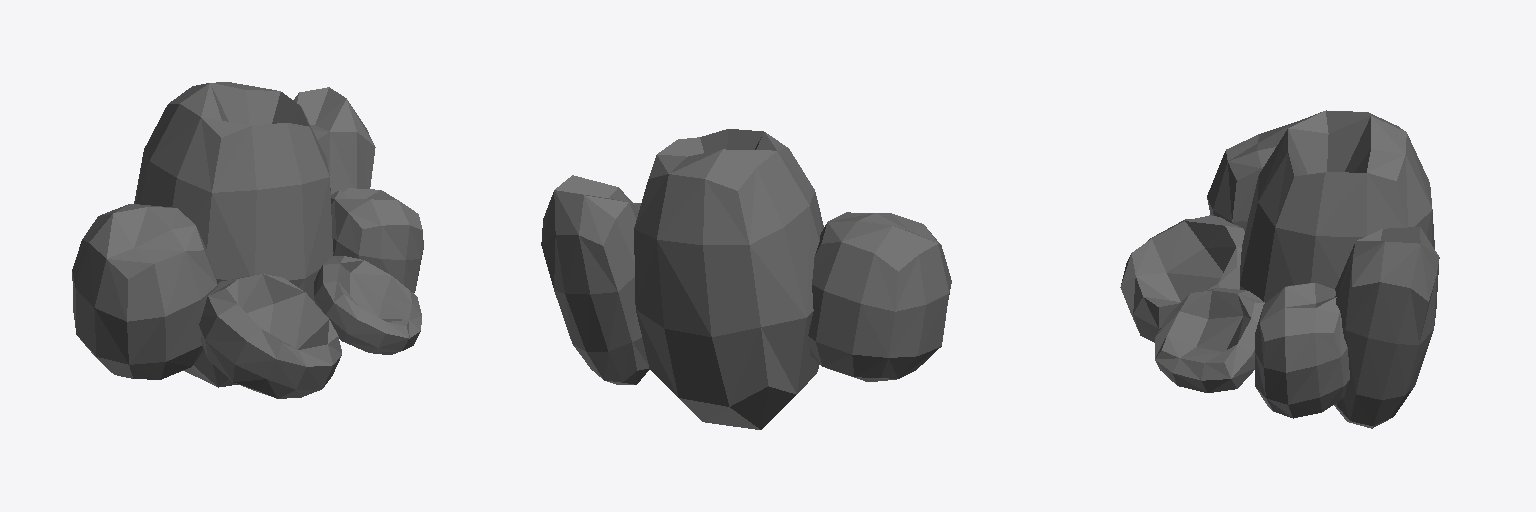
File: TidePlant2.obj
3 renders of one model, left to right at view 1: azimuth 30°, elevation 25°; view 2: azimuth 150°, elevation 25°; view 3: azimuth 270°, elevation 25°, orthographic.
Parts seen in each view (by area): view 1: Plant_Type002_Piece02_LP_ncl1_1_Untitled.000, Plant_Type002_Piece01_LP_ncl1_1_Untitled.000, Plant_Type002_Piece03_LP_ncl1_1_Untitled.000, Plant_Type002_Piece04_LP_ncl1_1_Untitled.000, Plant_Type002_Piece06_LP_ncl1_1_Untitled.000, Plant_Type002_Piece05_LP_ncl1_1_Untitled.001; view 2: Plant_Type002_Piece02_LP_ncl1_1_Untitled.000, Plant_Type002_Piece01_LP_ncl1_1_Untitled.000, Plant_Type002_Piece05_LP_ncl1_1_Untitled.001; view 3: Plant_Type002_Piece02_LP_ncl1_1_Untitled.000, Plant_Type002_Piece05_LP_ncl1_1_Untitled.001, Plant_Type002_Piece06_LP_ncl1_1_Untitled.000, Plant_Type002_Piece03_LP_ncl1_1_Untitled.000, Plant_Type002_Piece04_LP_ncl1_1_Untitled.000, Plant_Type002_Piece01_LP_ncl1_1_Untitled.000.
Boxes of the visible parts, <box> form: Plant_Type002_Piece02_LP_ncl1_1_Untitled.000: <box>134,82,333,387</box>; Plant_Type002_Piece01_LP_ncl1_1_Untitled.000: <box>72,204,217,379</box>; Plant_Type002_Piece03_LP_ncl1_1_Untitled.000: <box>199,274,341,398</box>; Plant_Type002_Piece04_LP_ncl1_1_Untitled.000: <box>314,256,421,354</box>; Plant_Type002_Piece06_LP_ncl1_1_Untitled.000: <box>331,188,423,292</box>; Plant_Type002_Piece05_LP_ncl1_1_Untitled.001: <box>293,87,375,194</box>; Plant_Type002_Piece02_LP_ncl1_1_Untitled.000: <box>634,129,823,429</box>; Plant_Type002_Piece01_LP_ncl1_1_Untitled.000: <box>808,212,951,381</box>; Plant_Type002_Piece05_LP_ncl1_1_Untitled.001: <box>541,175,649,384</box>; Plant_Type002_Piece02_LP_ncl1_1_Untitled.000: <box>1240,110,1434,302</box>; Plant_Type002_Piece05_LP_ncl1_1_Untitled.001: <box>1334,227,1439,428</box>; Plant_Type002_Piece06_LP_ncl1_1_Untitled.000: <box>1255,283,1349,418</box>; Plant_Type002_Piece03_LP_ncl1_1_Untitled.000: <box>1120,215,1244,342</box>; Plant_Type002_Piece04_LP_ncl1_1_Untitled.000: <box>1155,288,1264,392</box>; Plant_Type002_Piece01_LP_ncl1_1_Untitled.000: <box>1207,122,1294,230</box>.
Bounding box in the file's own units: 0.4485 × 0.3501 × 0.3616.